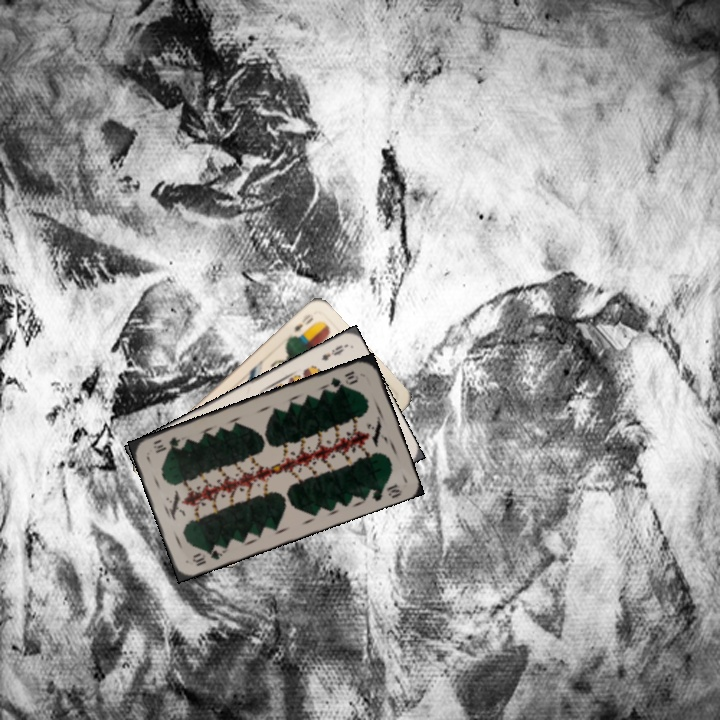E9: (317, 341, 348, 363)
EO: (289, 310, 316, 335)
G10: (188, 541, 227, 569), (326, 367, 362, 390)
